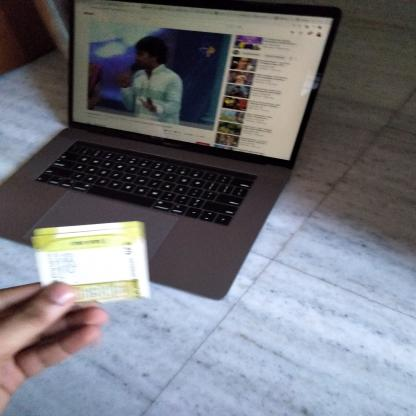New20Back: (35, 230, 148, 300)
